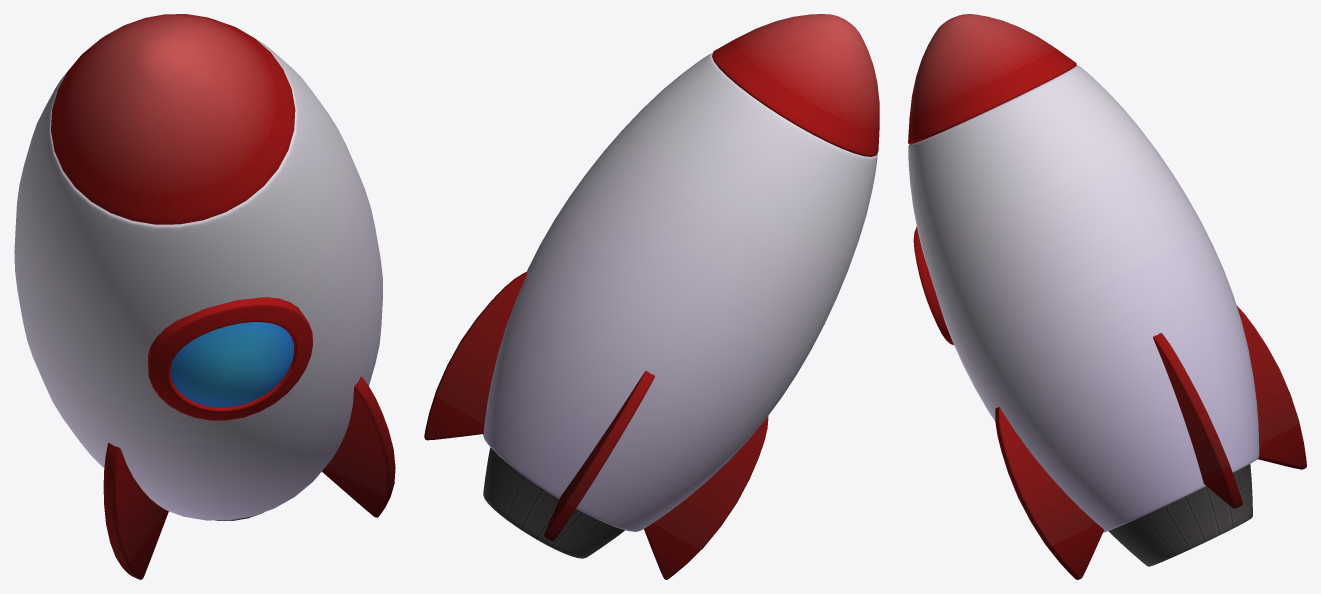
File: rocket_v2.33f015f5.gltf
3 renders of one model, left to right at view 1: azimuth 30°, elevation 25°; view 2: azimuth 150°, elevation 25°; view 3: azimuth 270°, elevation 25°, orthographic. The views are drawn at different scales.
Visible parts, largest first — view 1: Rocket (×6); view 2: Rocket (×6); view 3: Rocket (×7).
Part boxes in pixels (x1,y1,x2,y2): Rocket (×6): (14, 14, 395, 579); Rocket (×6): (424, 14, 879, 579); Rocket (×7): (908, 14, 1306, 579).
Size of the model in its own units: 634 by 954 by 700.
1 material, 1 textured.
